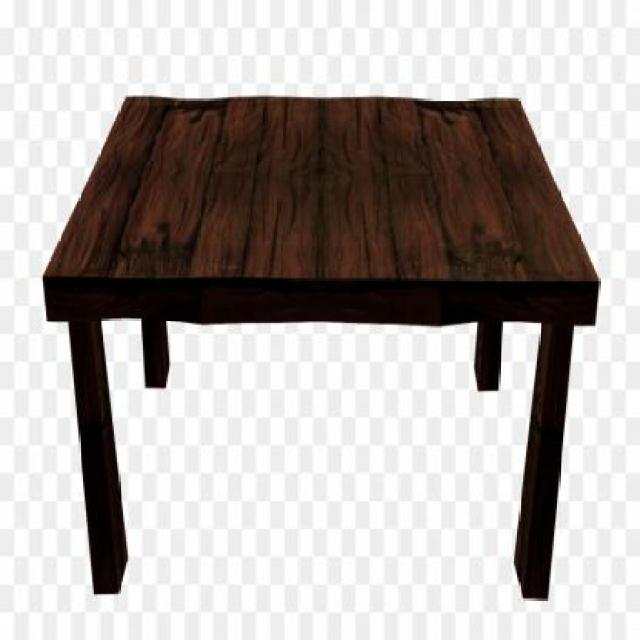table: (44, 95, 599, 596)
